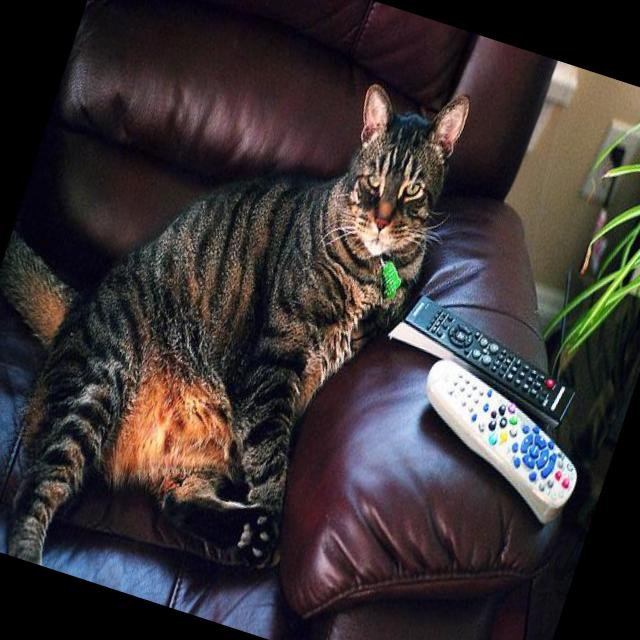cat: (0, 0, 489, 640)
pottedplant: (499, 88, 640, 476)
remote: (393, 348, 606, 536), (374, 287, 592, 439)
sofa: (0, 0, 640, 640)
